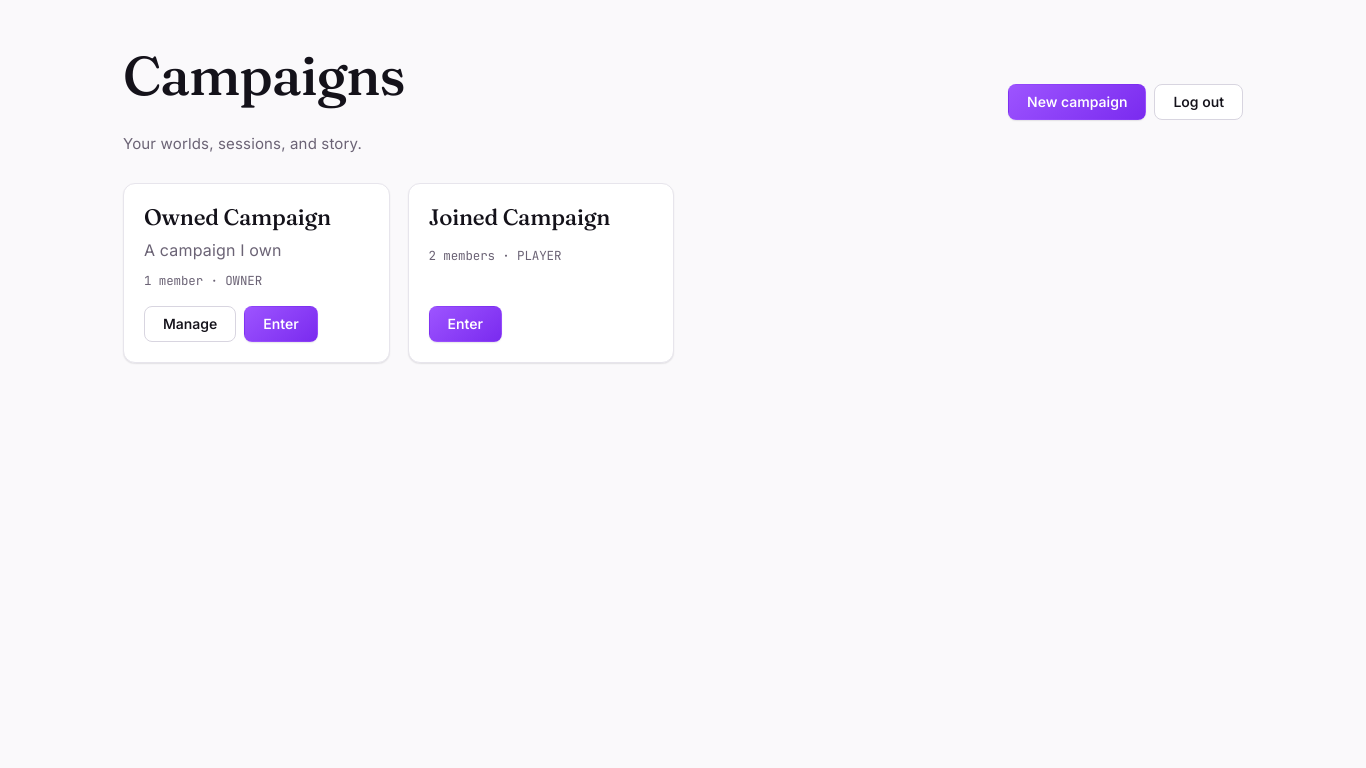
Test case: DashboardPage › closes the manage-campaign modal and refetches after saving
Step 1. Click the button "Manage" → (190, 324), box [144, 306, 236, 342]
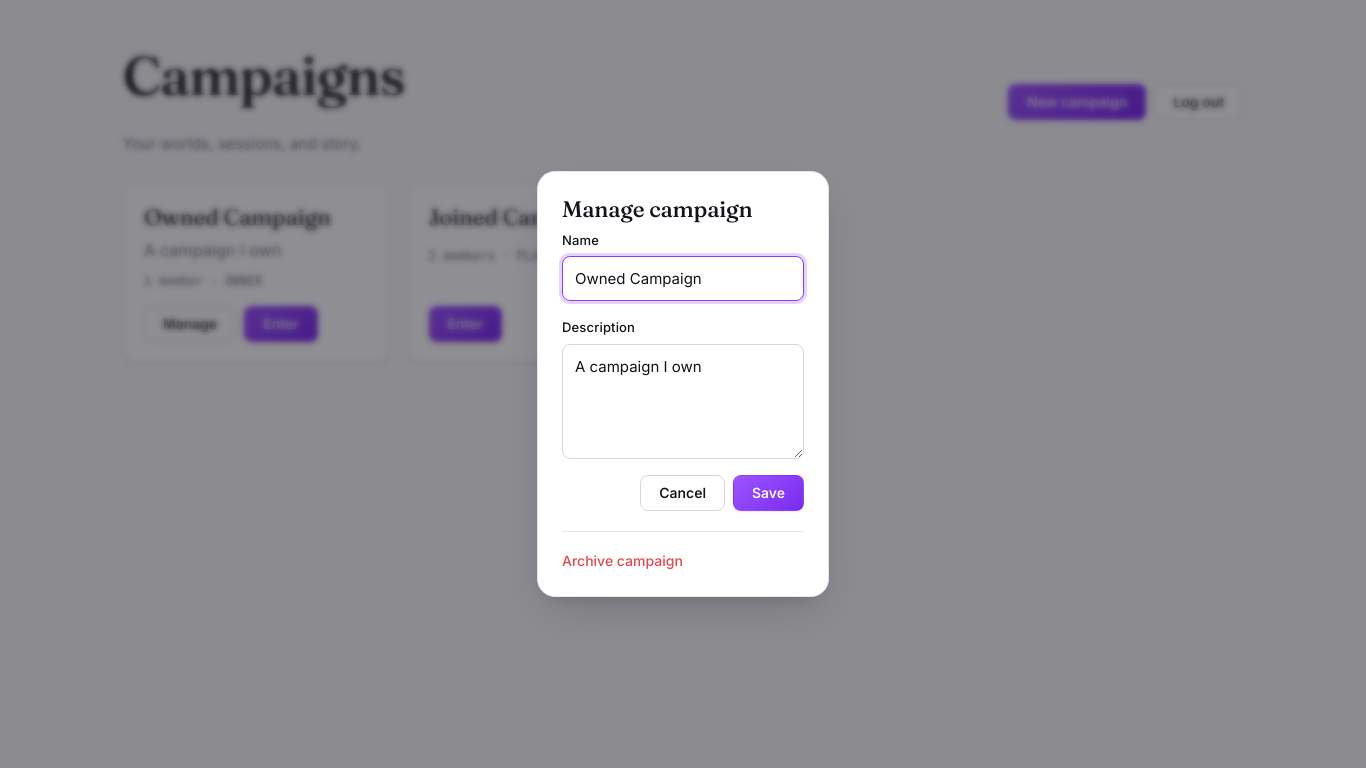
Step 2. Click the button "Save" → (768, 492), box [733, 474, 804, 510]
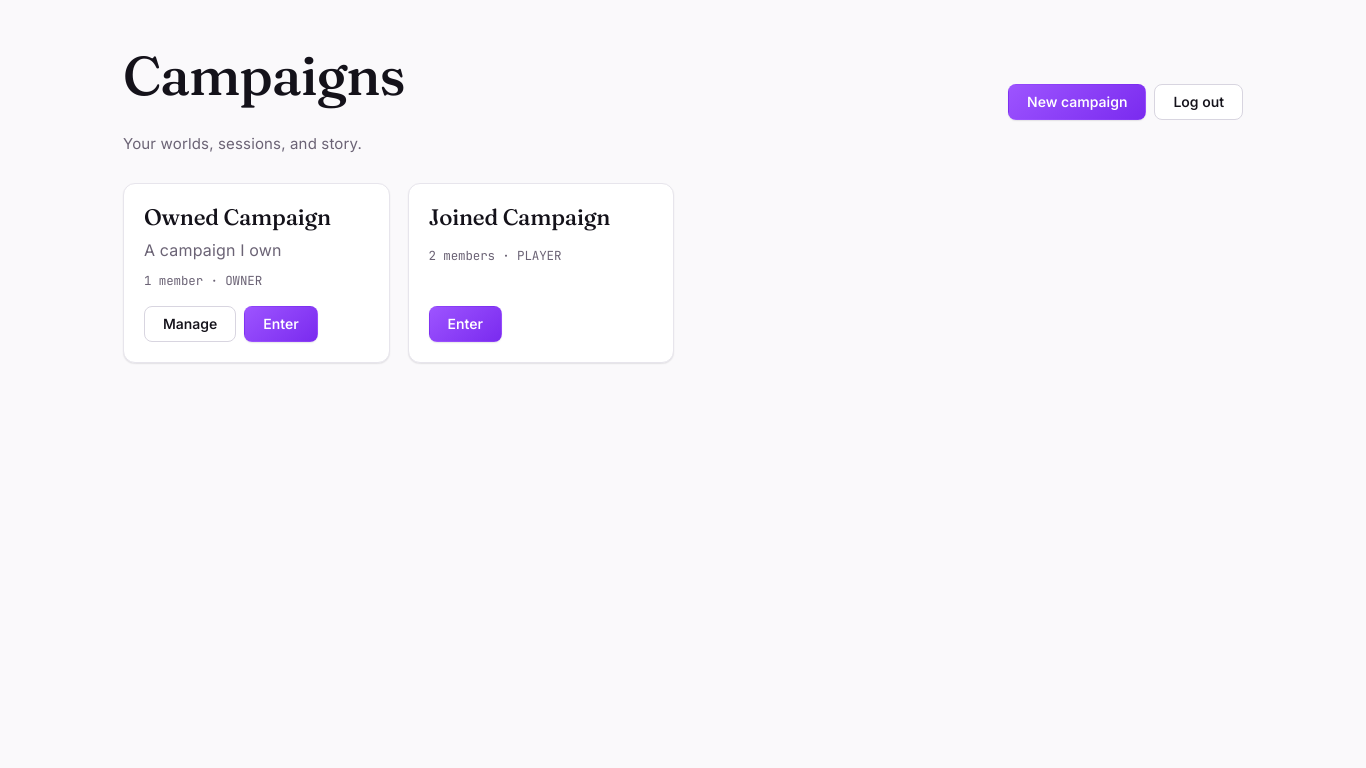
expect the heading "Manage campaign" is gone: met
